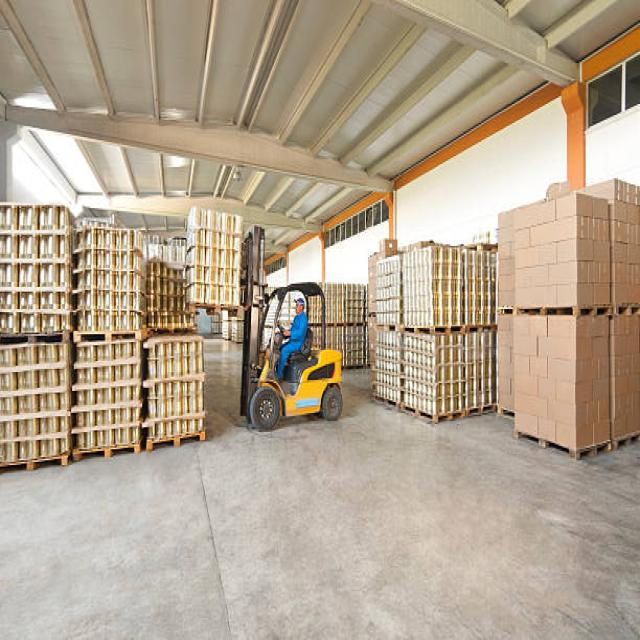Wooden-Pallets: (503, 421, 614, 473), (140, 423, 211, 469), (69, 321, 145, 358), (72, 433, 142, 473), (0, 450, 71, 487)
